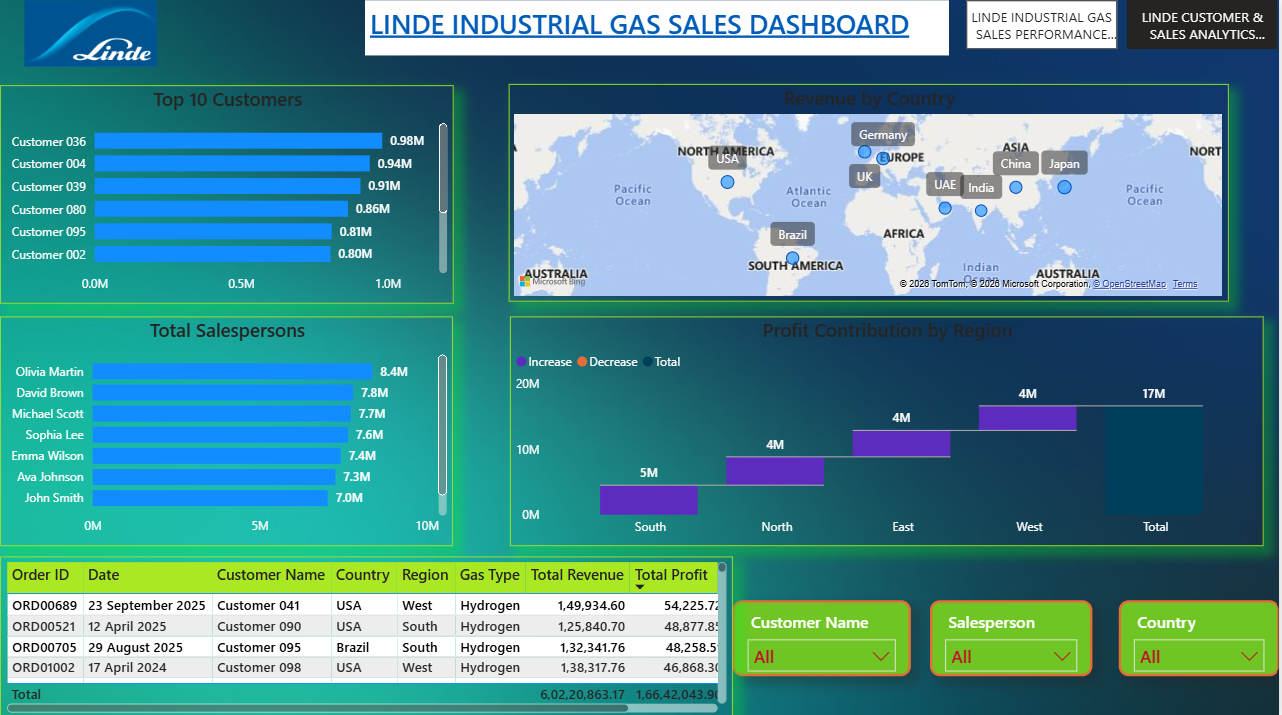

The dashboard page shown, as its layout file describes it:
{"tool":"powerbi","page":{"name":"LINDE CUSTOMER & SALES ANALYTICS DASHBOARD","canvas":[1280,720],"ordinal":1},"visuals":[{"type":"textbox","box":[365,1.4,584.3,54.8],"z":0},{"type":"image","box":[10.1,1.4,161.6,66.4],"z":1000},{"type":"clusteredBarChart","title":"Top 10 Customers","fields":{"Category":["Sales.Customer Name"],"Y":["Sales.Total Revenue"]},"box":[0,85.7,453.6,218.4],"z":2000},{"type":"clusteredBarChart","title":"Total Salespersons","fields":{"Category":["Sales.Salesperson"],"Y":["Sales.Total Revenue"]},"box":[0,317.4,453,229.4],"z":3000},{"type":"slicer","fields":{"Values":["Sales.Customer Name"]},"box":[732.7,601.1,178.4,76.1],"z":4000},{"type":"slicer","fields":{"Values":["Sales.Salesperson"]},"box":[930.2,601.1,162.3,76.1],"z":5000},{"type":"slicer","fields":{"Values":["Sales.Country"]},"box":[1118.8,601.1,160.9,76.1],"z":6000},{"type":"map","title":"Revenue by Country","fields":{"Category":["Sales.Country"],"Size":["Sales.Total Revenue"]},"box":[509.3,85.1,719.9,217.9],"z":7000},{"type":"waterfallChart","title":"Profit Contribution by Region","fields":{"Category":["Sales.Region"],"Y":["Sales.Total Profit"]},"box":[510.4,317.4,753.2,229.6],"z":8000},{"type":"tableEx","fields":{"Values":["Sales.Order ID","Sales.Date","Sales.Customer Name","Sales.Country","Sales.Region","Sales.Gas Type","Sales.Total Revenue","Sales.Total Profit","Sales.Salesperson"]},"box":[0,557.2,732.7,162.3],"z":9000},{"type":"pageNavigator","box":[966.7,1.4,313.1,49.1],"z":10000}]}

Visuals, with their boxes in screenshot pixels (x1, y1, x2, y2), scaled from the page's 1280x720 canvas onto the 1282x715 screenshot:
textbox: left=366, top=1, right=951, bottom=56
image: left=10, top=1, right=172, bottom=67
"Top 10 Customers" clusteredBarChart: left=0, top=85, right=454, bottom=302
"Total Salespersons" clusteredBarChart: left=0, top=315, right=454, bottom=543
slicer - Sales.Customer Name: left=734, top=597, right=913, bottom=672
slicer - Sales.Salesperson: left=932, top=597, right=1094, bottom=672
slicer - Sales.Country: left=1121, top=597, right=1281, bottom=672
"Revenue by Country" map: left=510, top=85, right=1231, bottom=301
"Profit Contribution by Region" waterfallChart: left=511, top=315, right=1266, bottom=543
tableEx - Sales.Order ID x Sales.Date: left=0, top=553, right=734, bottom=714
pageNavigator: left=968, top=1, right=1281, bottom=50
